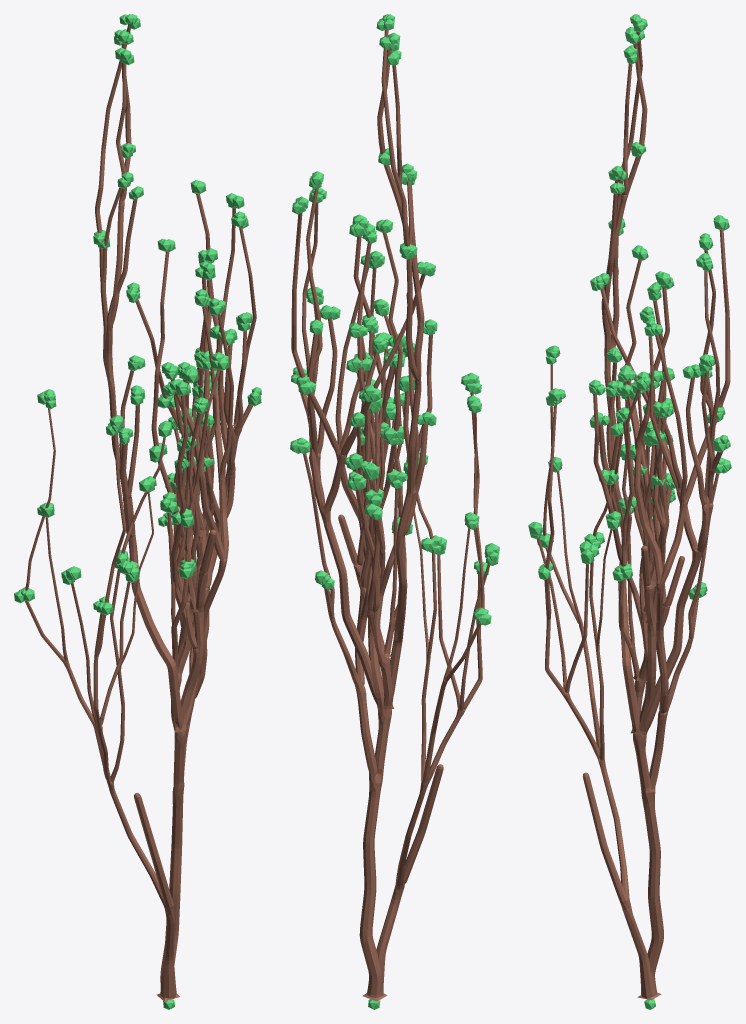
The picture shows the model from 3 angles, left to right: view 1: azimuth 30°, elevation 25°; view 2: azimuth 150°, elevation 25°; view 3: azimuth 330°, elevation 25°; orthographic projection. The views are drawn at different scales.
Visible parts, largest first — view 1: Arbusto; view 2: Arbusto; view 3: Arbusto.
Part boxes in pixels (bbox=[...]): Arbusto: bbox=[25, 24, 256, 1001]; Arbusto: bbox=[291, 29, 490, 1001]; Arbusto: bbox=[537, 31, 730, 1000].
Bounding box in the file's own units: 2.26 × 9.74 × 1.13.
